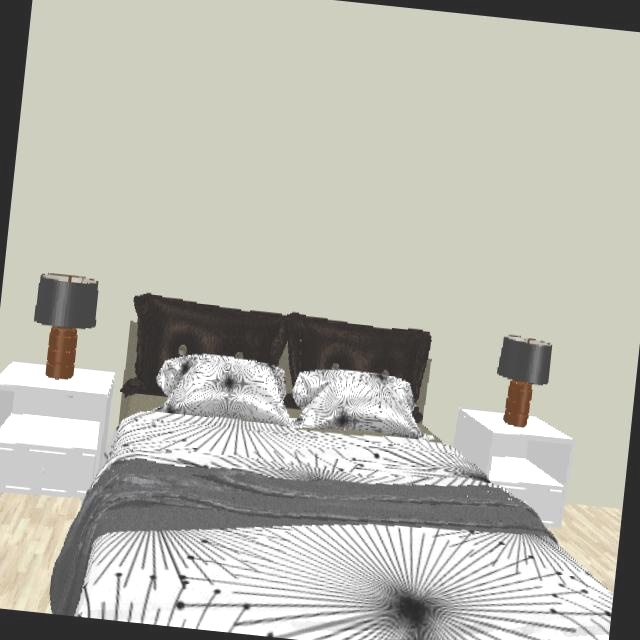bed: (49, 293, 613, 640)
lamp: (33, 272, 100, 380), (495, 335, 553, 427)
nighttable: (0, 362, 121, 498), (454, 409, 573, 525)
pillow: (156, 353, 423, 439)
